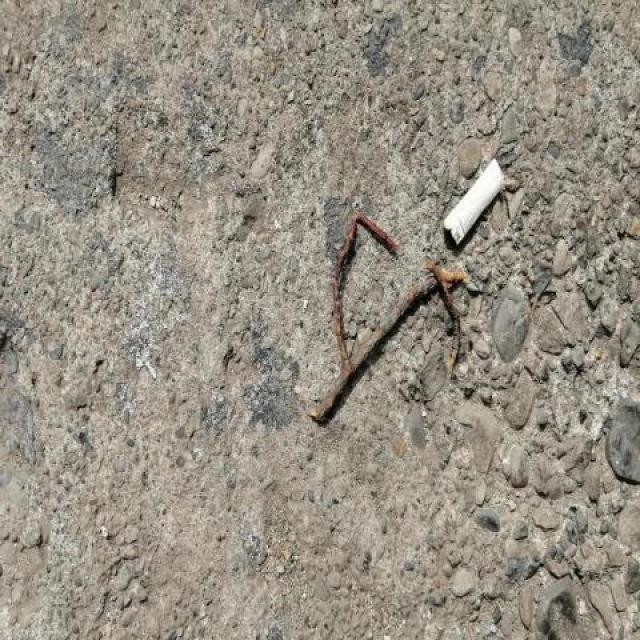non-organic waste: (440, 155, 508, 256)
